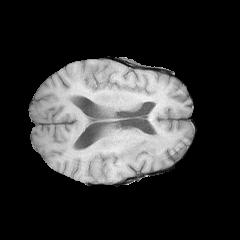glioma: (94, 130, 172, 175)
